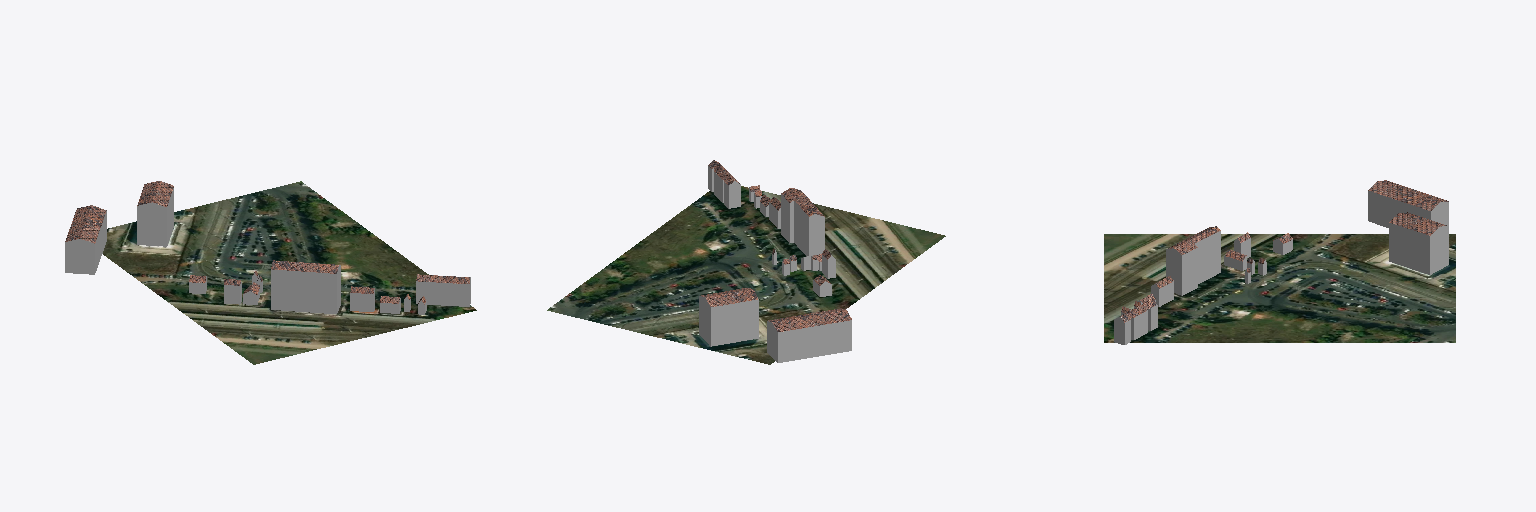
3 views of the same model, side by side, from view 1: azimuth 30°, elevation 25°; view 2: azimuth 150°, elevation 25°; view 3: azimuth 270°, elevation 25° (orthographic).
Visible parts, largest first — view 1: Terrain, map_13.osm_buildings; view 2: Terrain, map_13.osm_buildings; view 3: Terrain, map_13.osm_buildings.
Boxes of the visible parts, <box> form: Terrain: <box>103,181,476,364</box>; map_13.osm_buildings: <box>65,181,470,314</box>; Terrain: <box>547,186,945,364</box>; map_13.osm_buildings: <box>699,160,851,362</box>; Terrain: <box>1104,234,1455,342</box>; map_13.osm_buildings: <box>1114,180,1448,344</box>.
Size of the model in its own units: 200 by 31.03 by 222.
Materials: 3 (2 with a texture image).